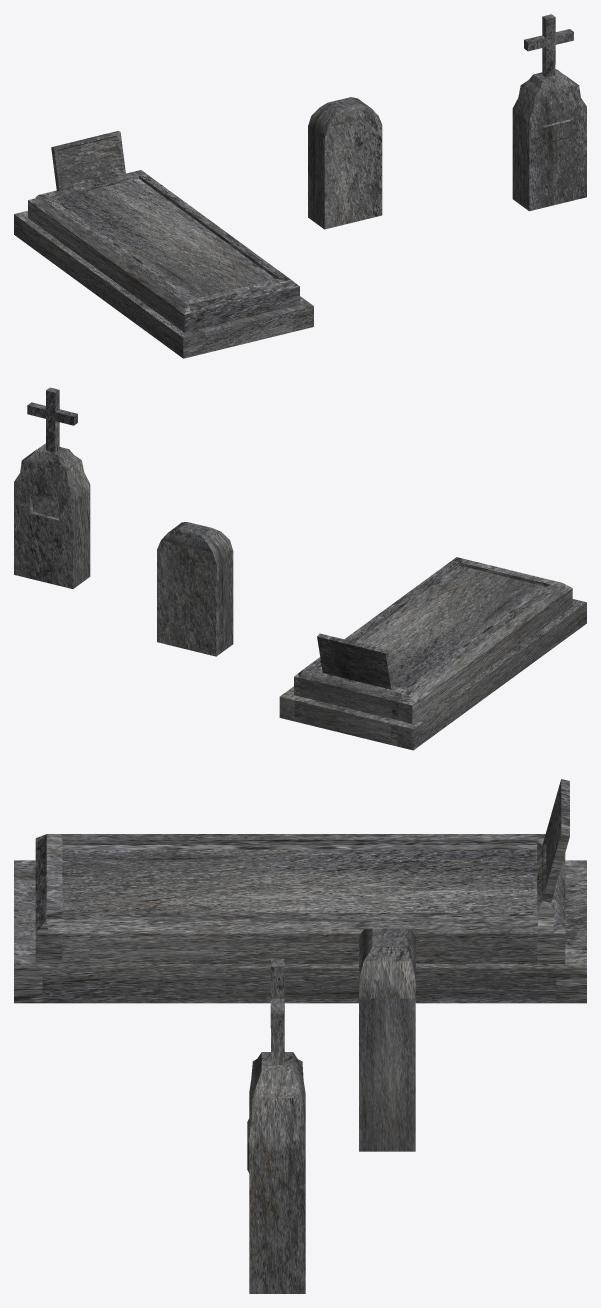
File: graves2.fbx
The picture shows the model from 3 angles, top to bottom: view 1: azimuth 30°, elevation 25°; view 2: azimuth 150°, elevation 25°; view 3: azimuth 270°, elevation 25°; orthographic projection. The views are drawn at different scales.
Visible parts, largest first — view 1: memorialfulllength, headstonecross, headstonebasic; view 2: memorialfulllength, headstonecross, headstonebasic; view 3: memorialfulllength, headstonecross, headstonebasic.
Part boxes in pixels (x1=…): memorialfulllength: x1=14, y1=131, x2=313, y2=358; headstonecross: x1=512, y1=14, x2=586, y2=211; headstonebasic: x1=308, y1=97, x2=382, y2=229; memorialfulllength: x1=279, y1=557, x2=586, y2=750; headstonecross: x1=14, y1=387, x2=90, y2=588; headstonebasic: x1=157, y1=522, x2=233, y2=656; memorialfulllength: x1=14, y1=779, x2=586, y2=1003; headstonecross: x1=247, y1=958, x2=305, y2=1293; headstonebasic: x1=359, y1=928, x2=415, y2=1151.
Size of the model in its own units: 8.2 by 3 by 5.08.
Materials: 2 (2 with a texture image).
